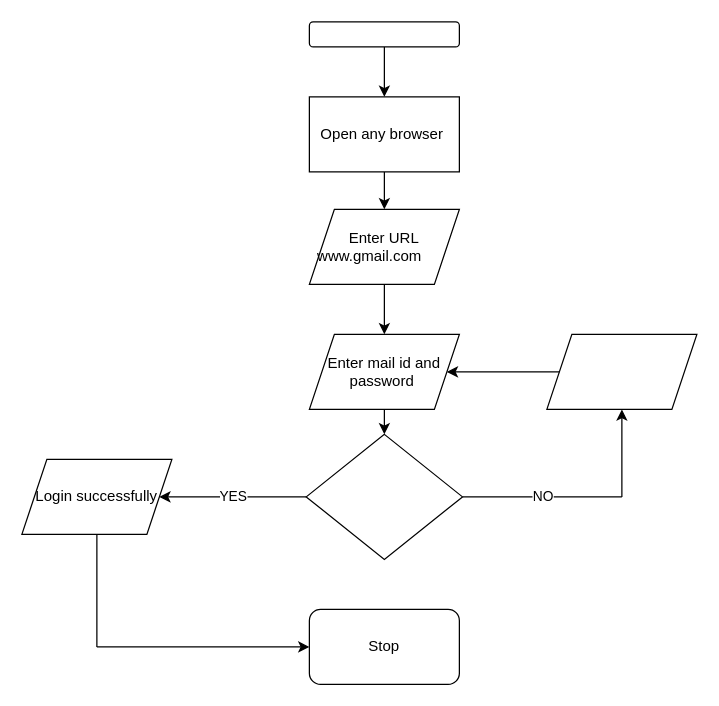
Some shapes in this 719 by 706 pixel diagram are drawn without their labels. The centre of each missing label's shape, as x and y in pixels:
"is email id and password correct ?" goes at point 383,496.
"Login Error" goes at point 621,371.
"start" goes at point 383,34.
